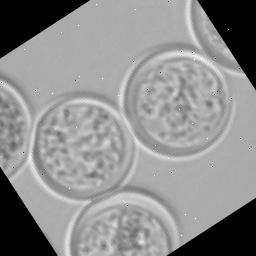picoshell: (117, 46, 233, 161), (28, 92, 134, 202), (64, 186, 180, 256), (184, 0, 245, 76), (0, 74, 32, 179)
